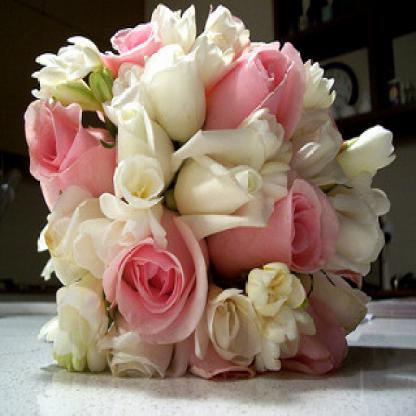ROSE-MAWAR: (22, 4, 401, 388)
